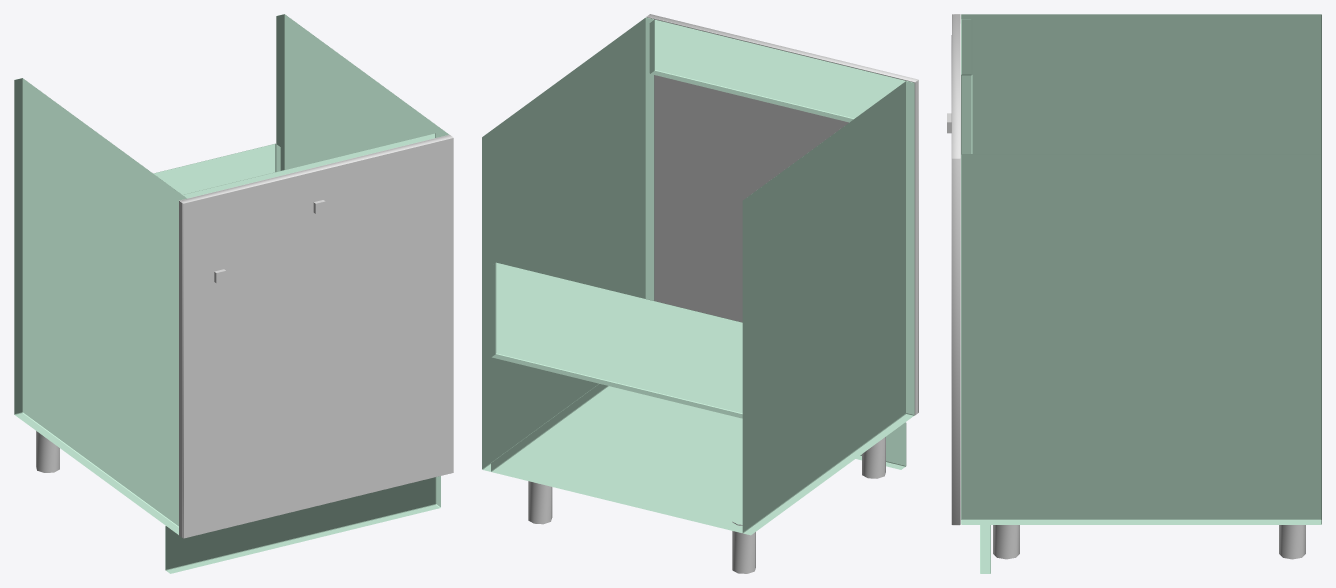
3 renders of one model, left to right at view 1: azimuth 30°, elevation 25°; view 2: azimuth 150°, elevation 25°; view 3: azimuth 270°, elevation 25°, orthographic. The views are drawn at different scales.
Parts seen in each view (by area): view 1: M_1CL_1_F.012, M_1CL_2, M_1CL_1_F_C.012, Legs.008; view 2: M_1CL_2, M_1CL_1_F_A.012, M_1CL_1_F_B.012, Legs.008, M_1CL_1_F.012, M_1CL_1_F_C.012; view 3: M_1CL_2, M_1CL_1_F.012, Legs.008.
Part boxes in pixels (left/top/right/bottom): M_1CL_1_F.012: left=180, top=135, right=453, bottom=538; M_1CL_2: left=14, top=14, right=448, bottom=573; M_1CL_1_F_C.012: left=179, top=201, right=182, bottom=537; Legs.008: left=36, top=431, right=59, bottom=472; M_1CL_2: left=482, top=17, right=914, bottom=535; M_1CL_1_F_A.012: left=646, top=16, right=917, bottom=322; M_1CL_1_F_B.012: left=781, top=50, right=917, bottom=415; Legs.008: left=528, top=437, right=885, bottom=573; M_1CL_1_F.012: left=647, top=14, right=918, bottom=412; M_1CL_1_F_C.012: left=647, top=17, right=918, bottom=414; M_1CL_2: left=961, top=14, right=1321, bottom=573; M_1CL_1_F.012: left=951, top=14, right=960, bottom=525; Legs.008: left=993, top=525, right=1305, bottom=559.
Size of the model in its own units: 6.42 by 8.68 by 7.03.
